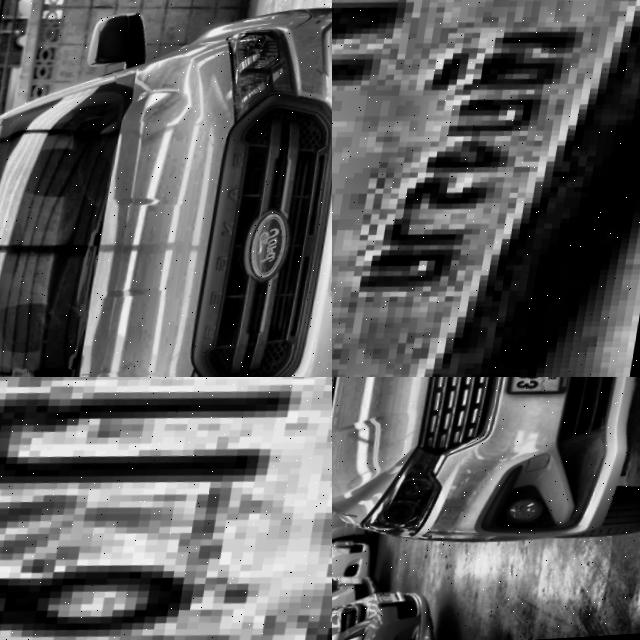license-plate: (332, 0, 640, 377), (0, 377, 332, 640), (507, 377, 589, 404), (387, 592, 418, 612), (348, 541, 368, 554)
